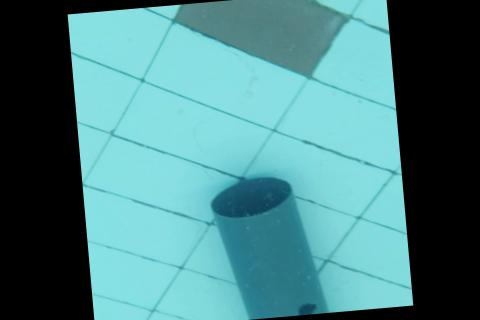kebocoran: (294, 303, 317, 316)
